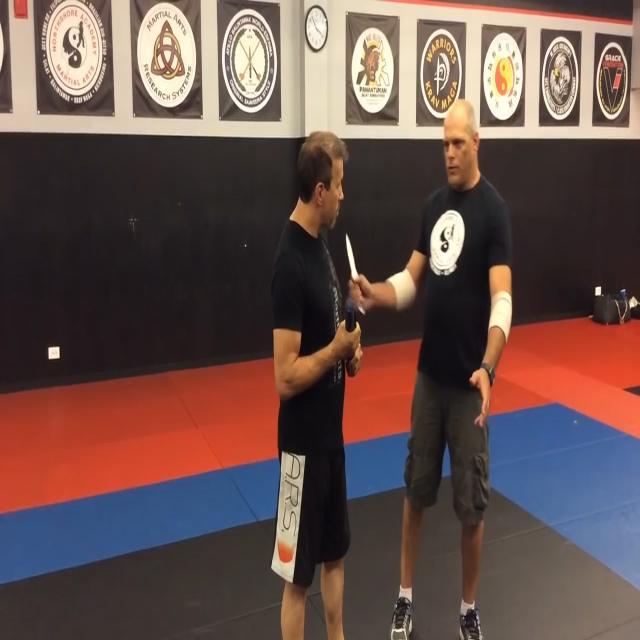knife: (342, 227, 362, 286)
